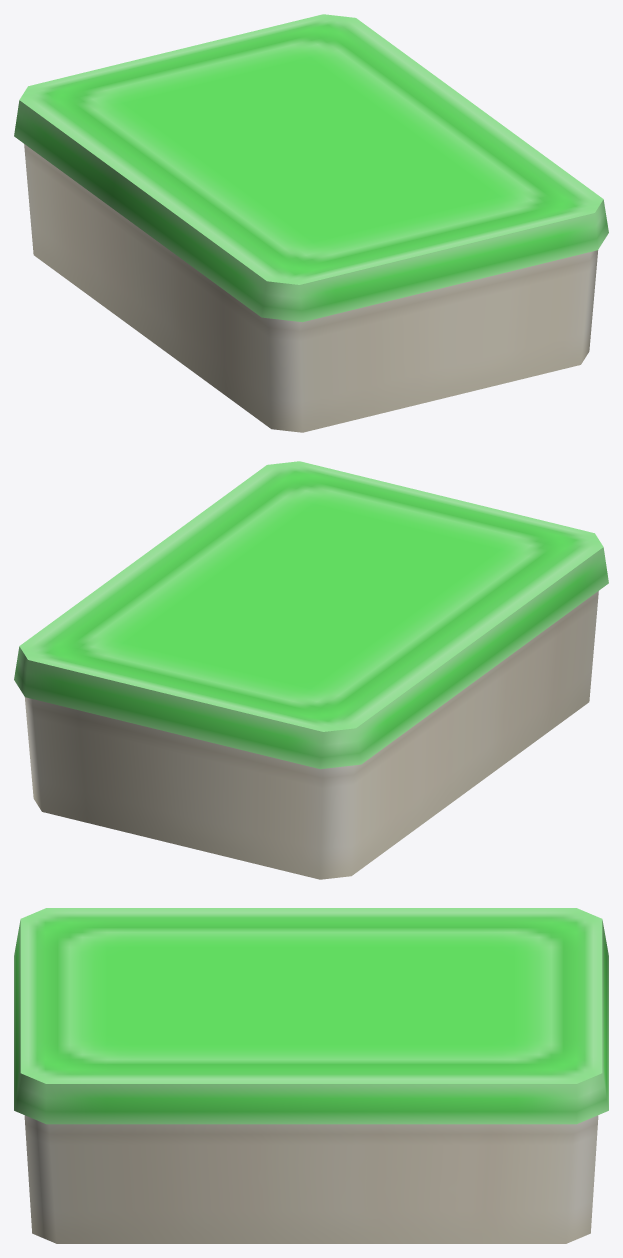
File: KR_Tupperware_01_04.fbx
3 views of the same model, one above another, from view 1: azimuth 30°, elevation 25°; view 2: azimuth 150°, elevation 25°; view 3: azimuth 270°, elevation 25° (orthographic). The views are drawn at different scales.
Parts seen in each view (by area): view 1: lid01, tupperware01; view 2: lid01, tupperware01; view 3: lid01, tupperware01.
Part boxes in pixels (x1,y1,x2,y2): lid01: (14,14,608,322); tupperware01: (24,144,598,432); lid01: (14,461,608,769); tupperware01: (24,591,598,879); lid01: (14,908,608,1124); tupperware01: (24,1115,598,1243).
Bounding box in the file's own units: 13 × 5.5 × 18.
